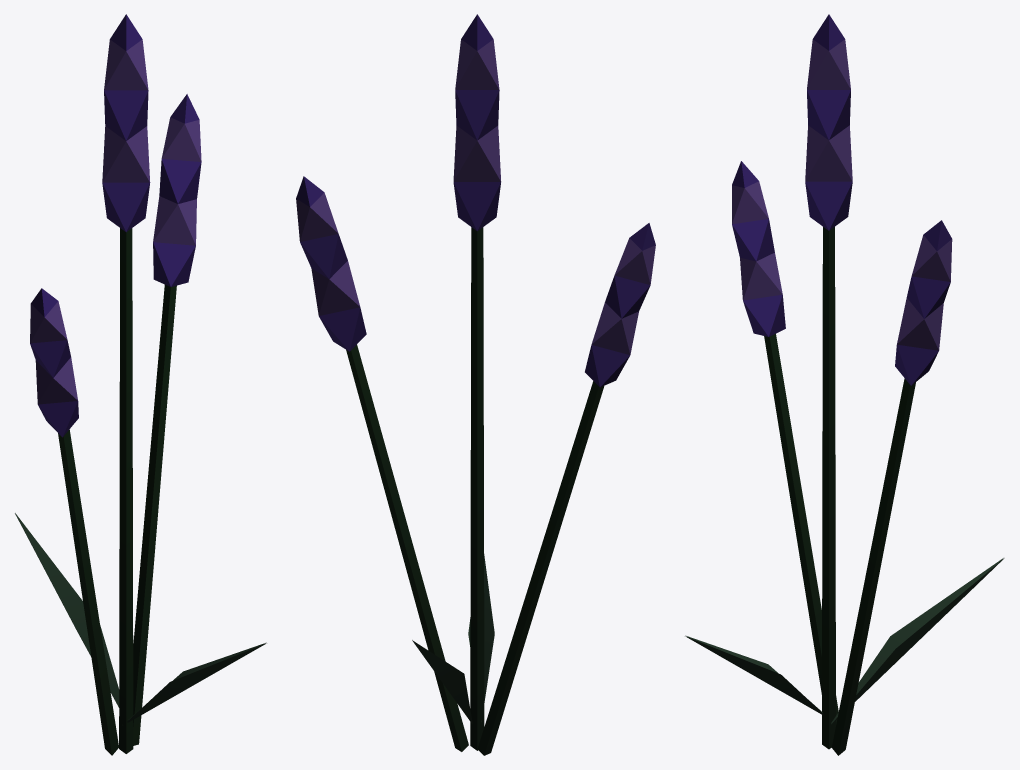
The model's file is bloom_lavender.fbx.
The picture shows the model from 3 angles, left to right: view 1: azimuth 30°, elevation 25°; view 2: azimuth 150°, elevation 25°; view 3: azimuth 270°, elevation 25°; orthographic projection.
Parts seen in each view (by area): view 1: Bloom_Lavender; view 2: Bloom_Lavender; view 3: Bloom_Lavender.
Part boxes in pixels (x1=…): Bloom_Lavender: x1=15, y1=14, x2=266, y2=755; Bloom_Lavender: x1=296, y1=14, x2=655, y2=755; Bloom_Lavender: x1=685, y1=14, x2=1004, y2=755.
Bounding box in the file's own units: 0.1251 × 0.3359 × 0.1333.
